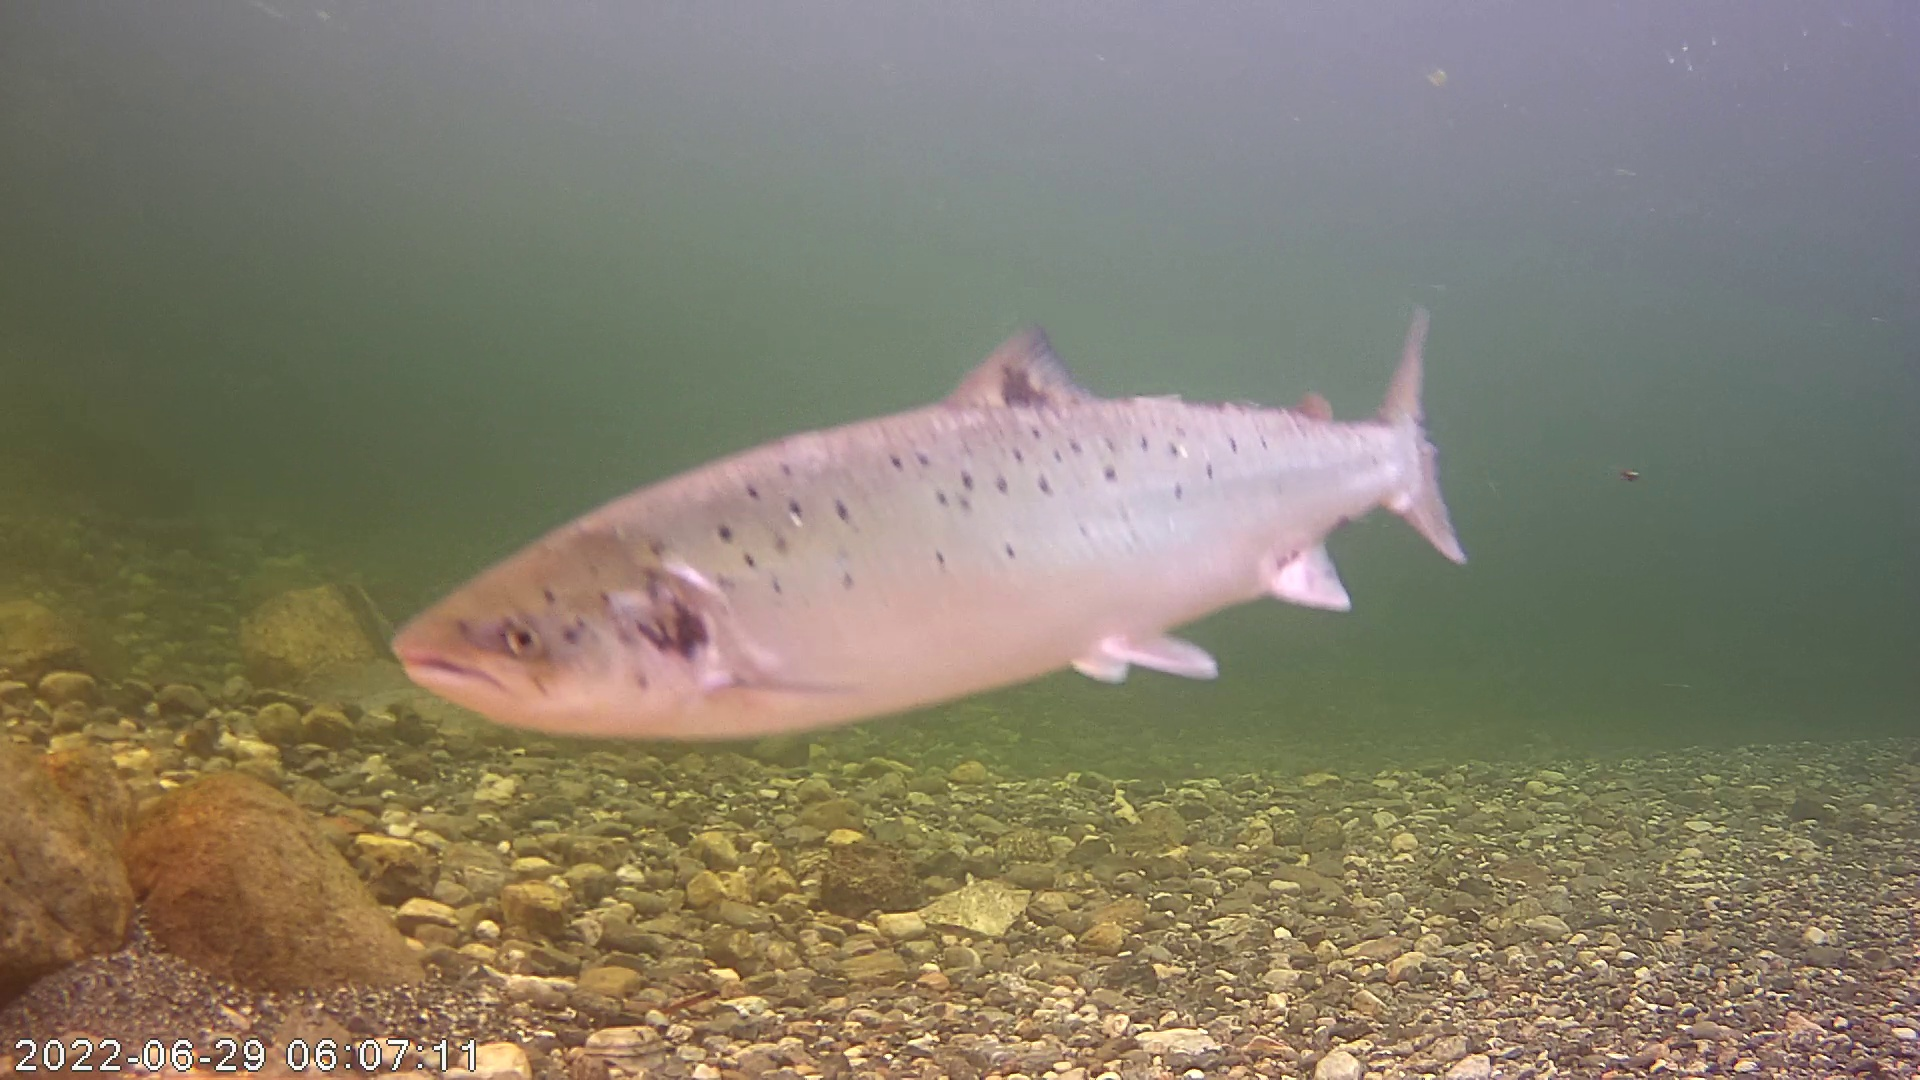salmon: (393, 248, 1448, 737)
